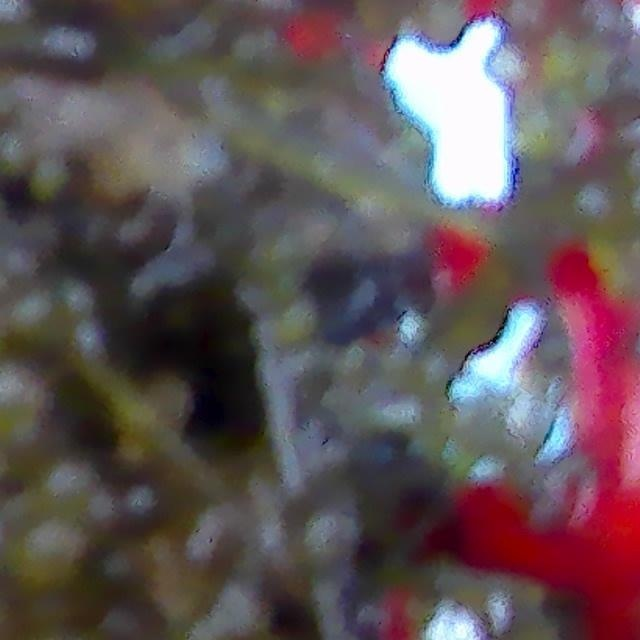SeaGrape: (0, 371, 50, 454), (14, 527, 75, 589), (98, 548, 153, 598), (126, 481, 169, 542)
